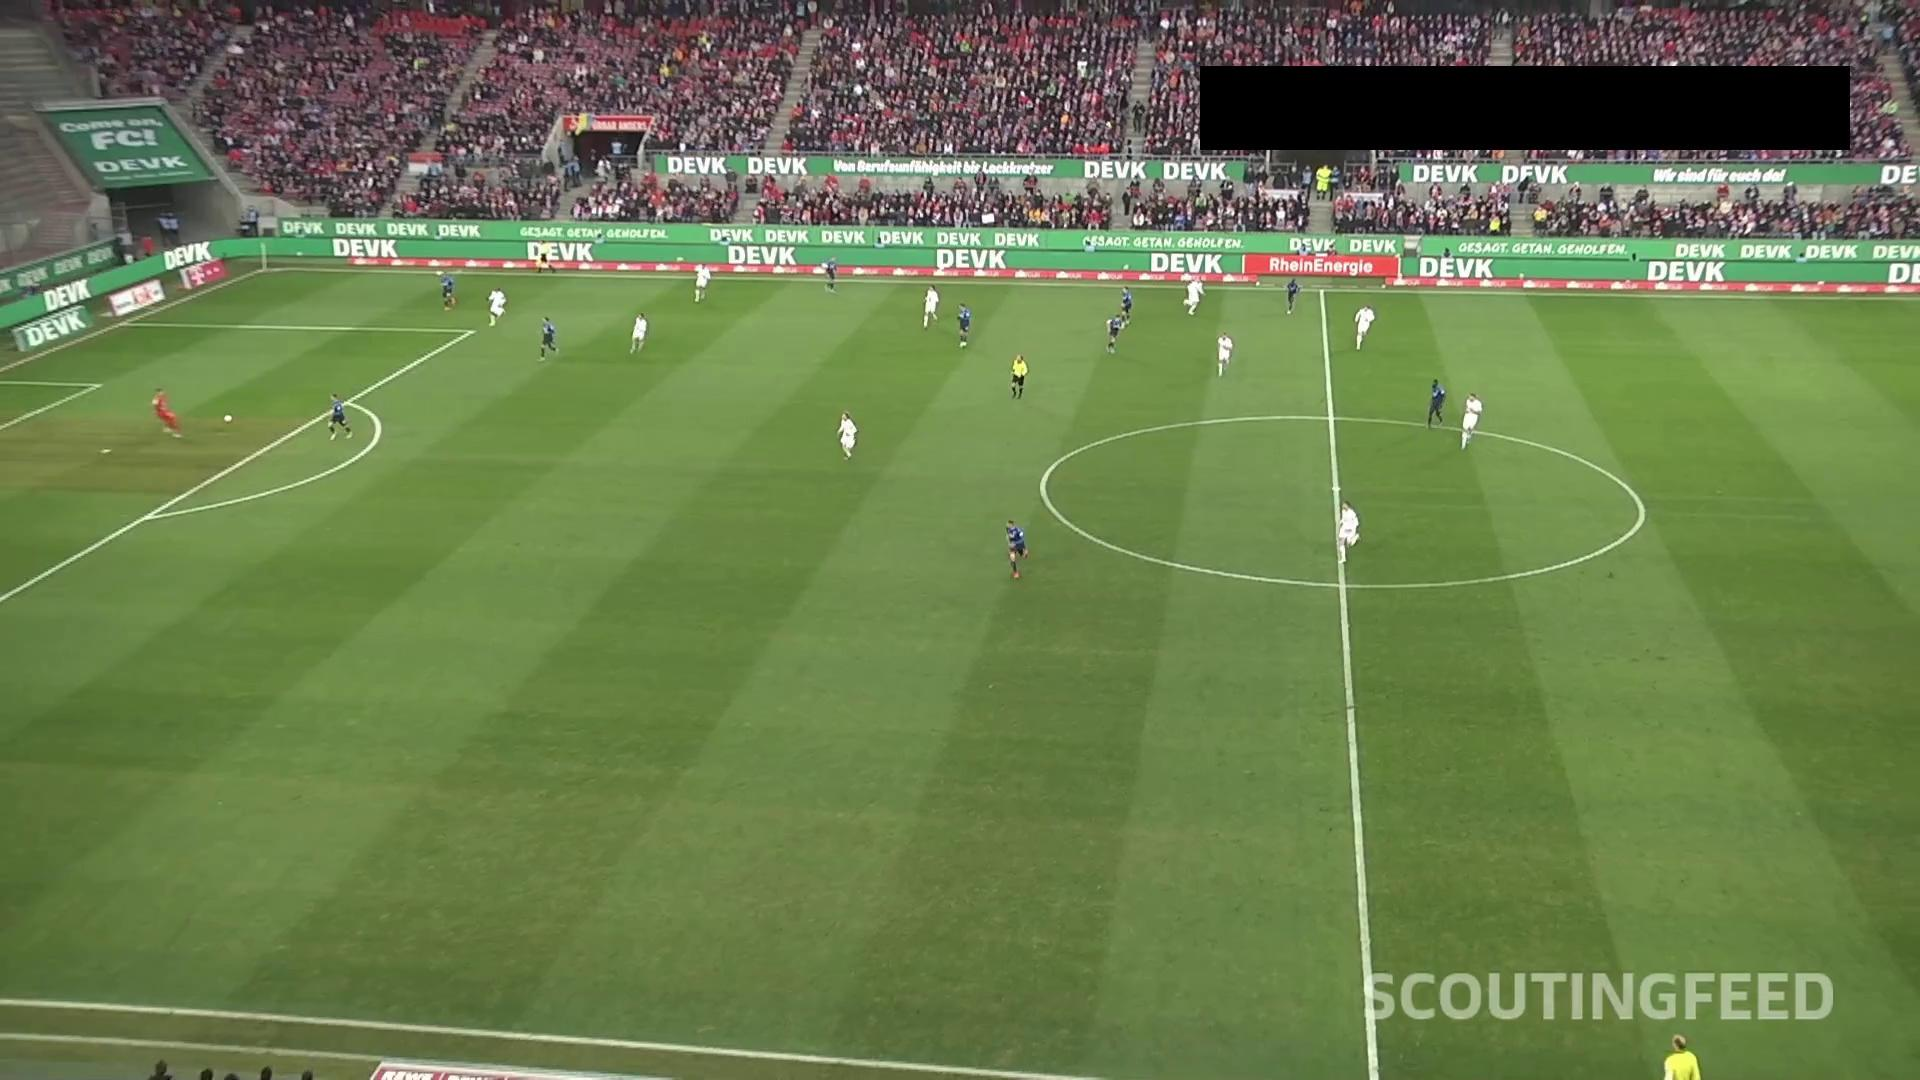Location-of-ball: (212, 400, 244, 437)
